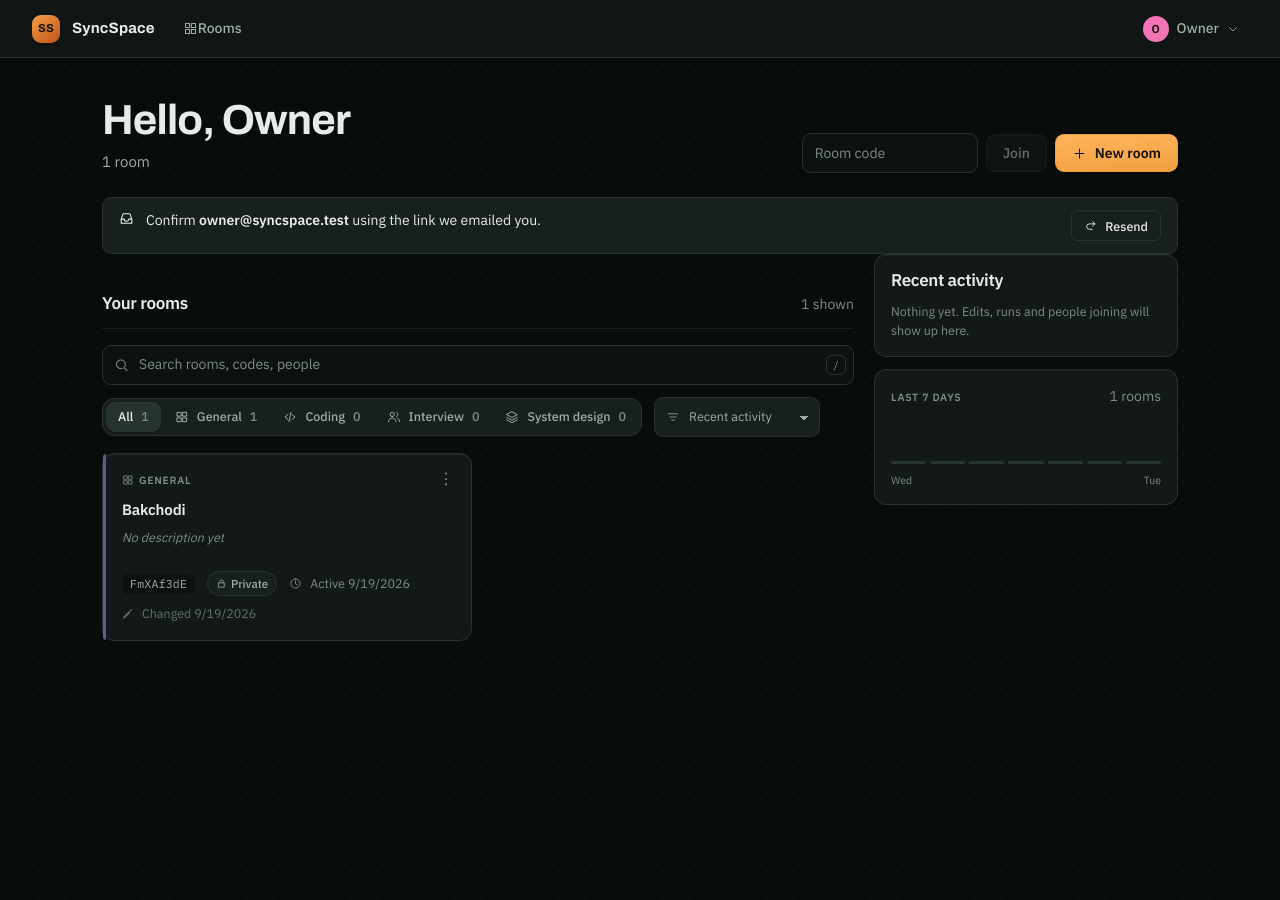
Test: dashboard room management › keeps management behind a menu rather than on the card
Expected: the text "Bakchodi" is shown, [122,498,186,521]
Expected: the menu item "Delete room" is not shown
Click the button named "Manage Bakchodi" at (446, 479), box [429,462,463,496]
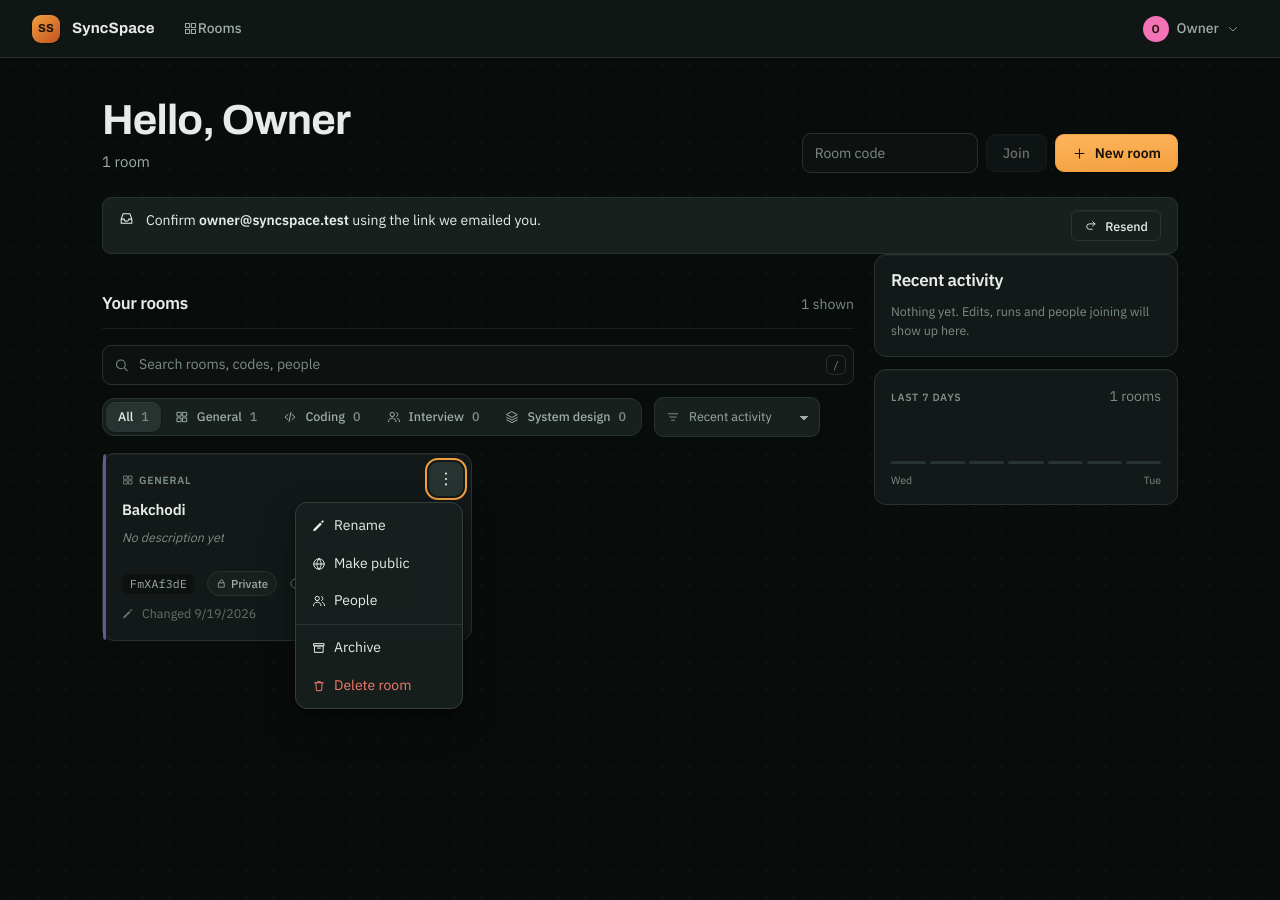
Now the menu item "Delete room" is shown, box [300,667,458,704]
Now the menu item "People" is shown, box [300,582,458,620]
